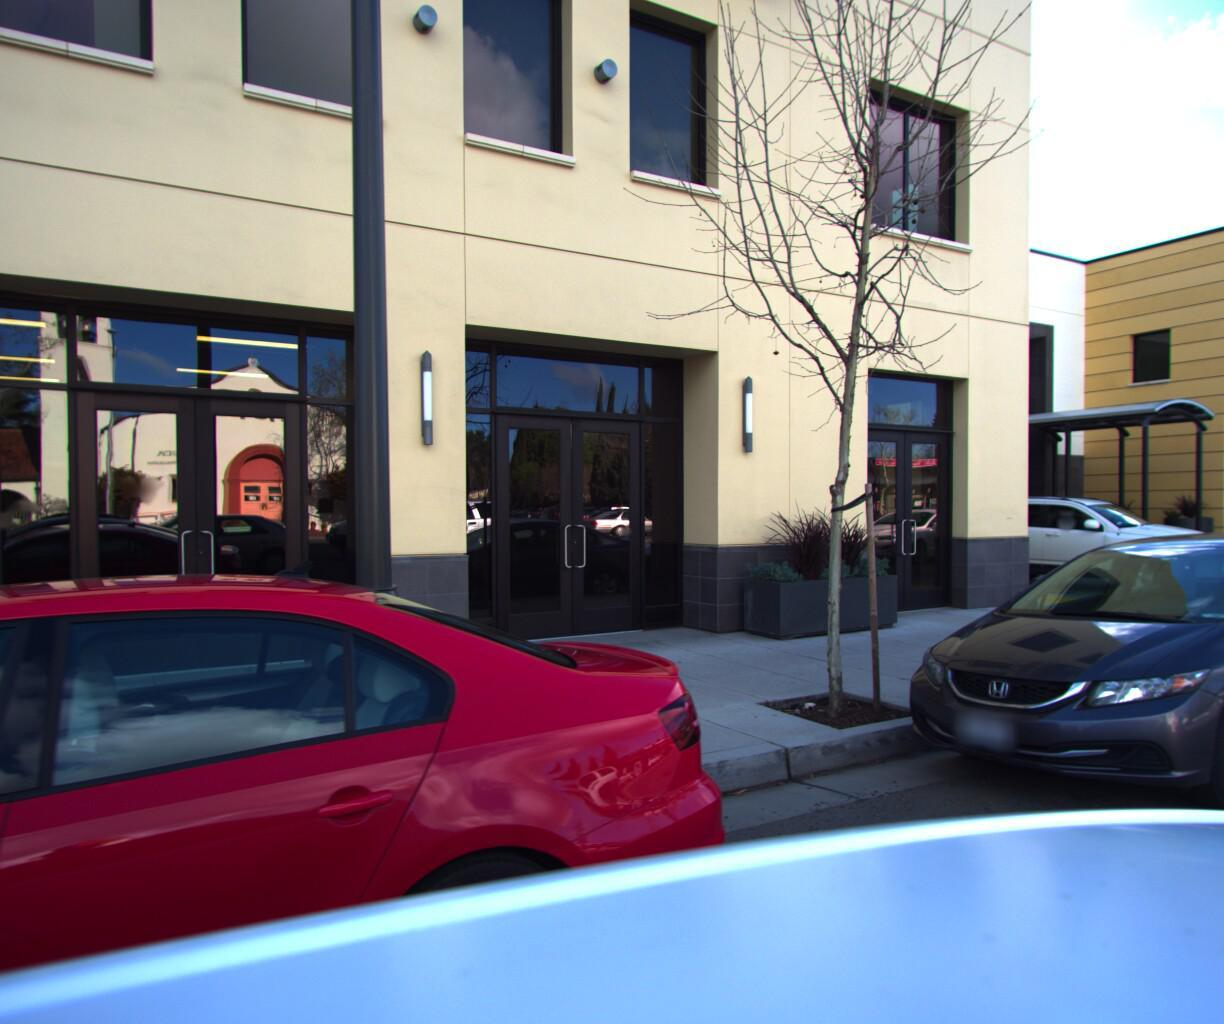car: (0, 534, 788, 1024), (868, 520, 1224, 849), (950, 492, 1224, 598)
